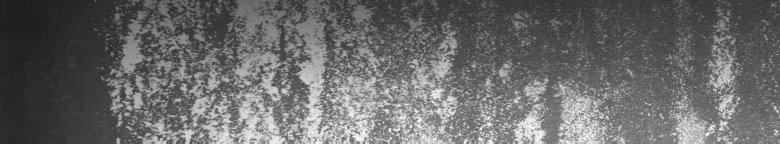kb: (94, 4, 776, 136)
